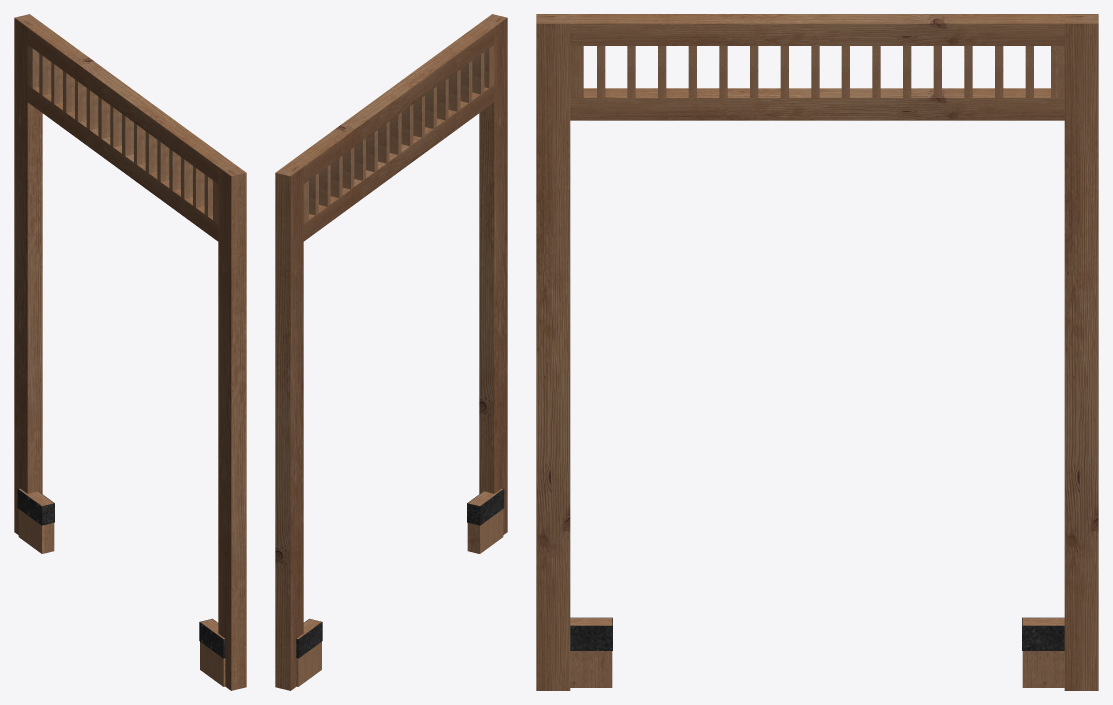
The model's file is SM_Gyedong_Door_06C.fbx.
3 renders of one model, left to right at view 1: azimuth 30°, elevation 25°; view 2: azimuth 150°, elevation 25°; view 3: azimuth 270°, elevation 25°, orthographic. The views are drawn at different scales.
Parts seen in each view (by area): view 1: SM_Gyedong_Door_06C; view 2: SM_Gyedong_Door_06C; view 3: SM_Gyedong_Door_06C.
Boxes of the visible parts, x1=… form: SM_Gyedong_Door_06C: x1=14, y1=14, x2=246, y2=690; SM_Gyedong_Door_06C: x1=275, y1=14, x2=507, y2=690; SM_Gyedong_Door_06C: x1=536, y1=14, x2=1098, y2=690.
Size of the model in its own units: 10.38 by 268 by 205.
